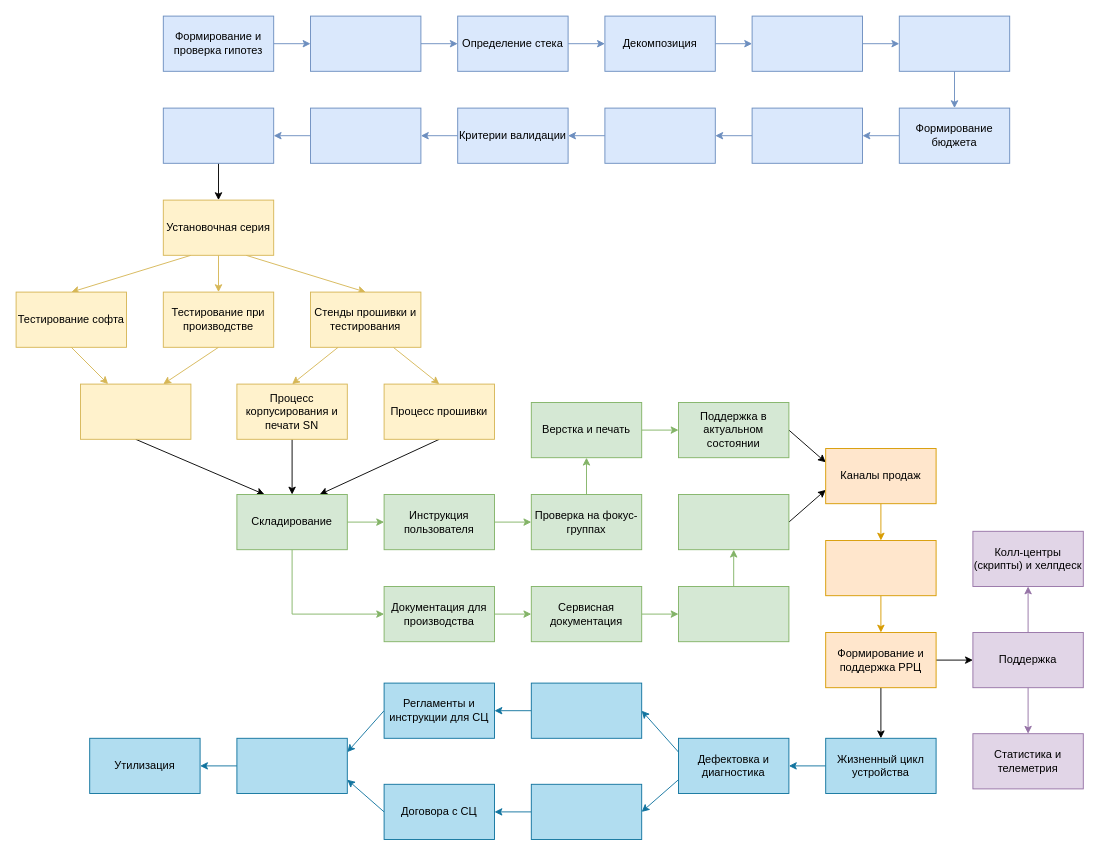
This 1099x856 diagram has some shape labels left out. The shapes that lost their labels are listed below. From the top down, each one's centre as x and y in pixels, then its label:
the point at 365,43: Изучение рынка
the point at 806,43: Оценка сроков
the point at 954,43: Оценка критических путей
the point at 218,135: Пилотное производство
the point at 365,135: DFM
the point at 659,135: Дизайн-ревью
the point at 806,135: Архитектурное проектирование
the point at 135,411: CI/CD процессы
the point at 733,522: Сертификация
the point at 880,568: Фуллфилмент
the point at 733,614: Документация стендов, сервера, бд, сборочных окружений
the point at 586,710: Замена и ремонт
the point at 291,765: Расчет брака и срока гарантии
the point at 586,811: ЗИПы
